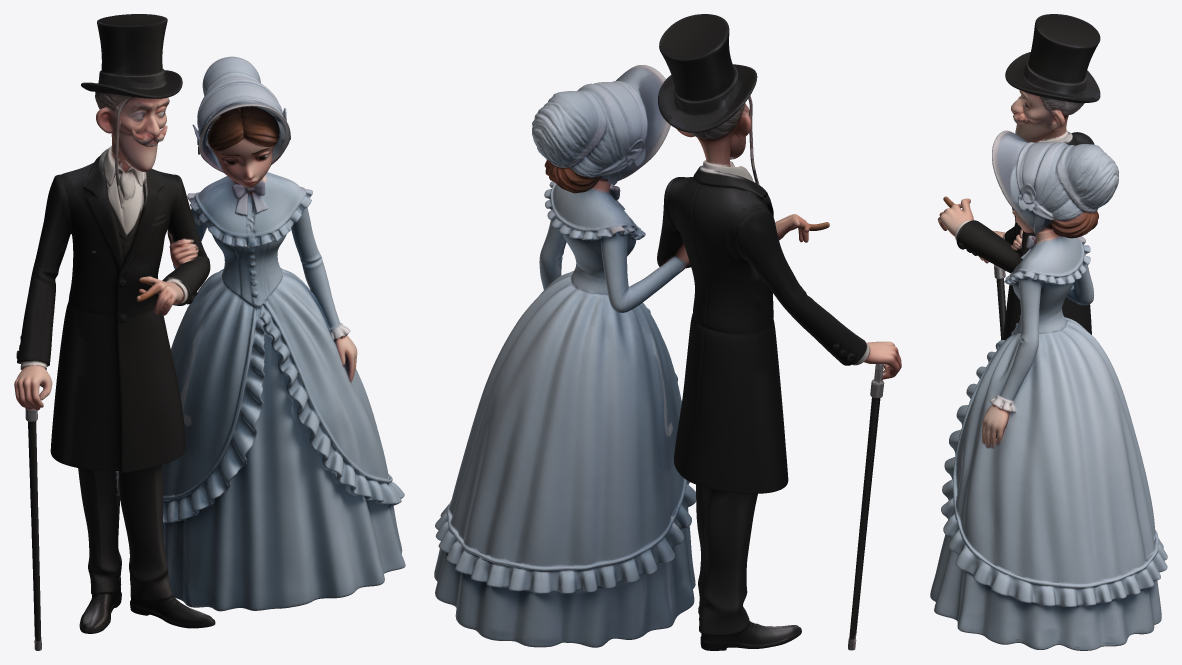
File: unequal_marriage-1.glb
3 renders of one model, left to right at view 1: azimuth 30°, elevation 25°; view 2: azimuth 150°, elevation 25°; view 3: azimuth 270°, elevation 25°, orthographic. The views are drawn at different scales.
Parts seen in each view (by area): view 1: Object_4, Object_3, Object_5, Object_2, Object_6; view 2: Object_3, Object_4, Object_5, Object_6, Object_2; view 3: Object_3, Object_2, Object_6, Object_5, Object_4.
Boxes of the visible parts, box(x1,y1,x2,y2) form: Object_4: box(14, 17, 199, 633); Object_3: box(97, 14, 402, 628); Object_5: box(99, 20, 384, 608); Object_2: box(16, 73, 405, 650); Object_6: box(248, 64, 384, 595); Object_3: box(438, 14, 734, 647); Object_4: box(672, 15, 901, 650); Object_5: box(493, 31, 789, 647); Object_6: box(455, 89, 579, 640); Object_2: box(434, 78, 877, 650); Object_3: box(946, 14, 1153, 621); Object_2: box(939, 70, 1153, 650); Object_6: box(939, 151, 1167, 633); Object_5: box(930, 14, 1167, 619); Object_4: box(937, 14, 1098, 339).
Bounding box in the file's own units: 1.35 × 1.9 × 0.7652.
Materials: 1 (1 with a texture image).
